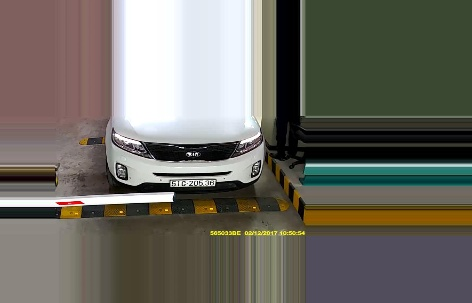plate: (170, 175, 221, 193)
